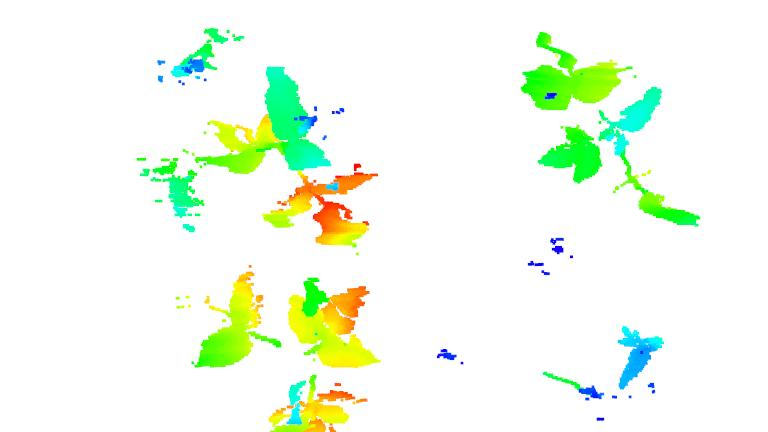mungbean: (522, 30, 704, 229), (207, 61, 381, 253), (192, 269, 388, 432), (607, 324, 672, 393)
